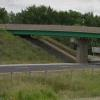Bridge: (3, 15, 96, 48)
